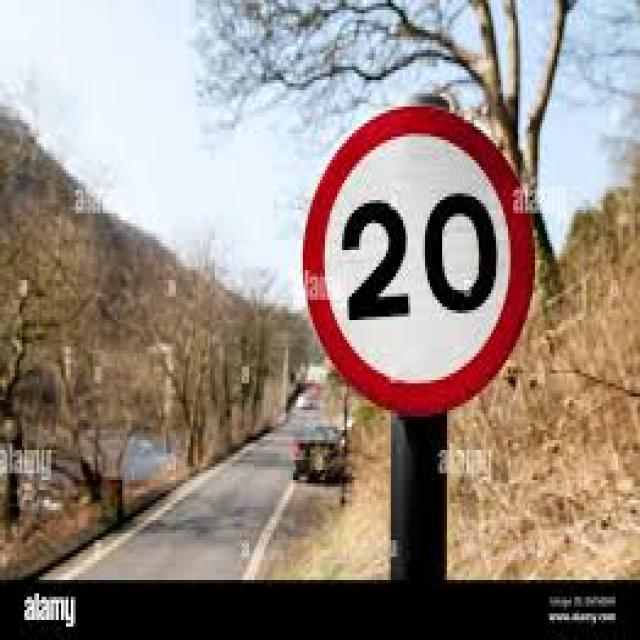speed_20: (306, 102, 537, 409)
